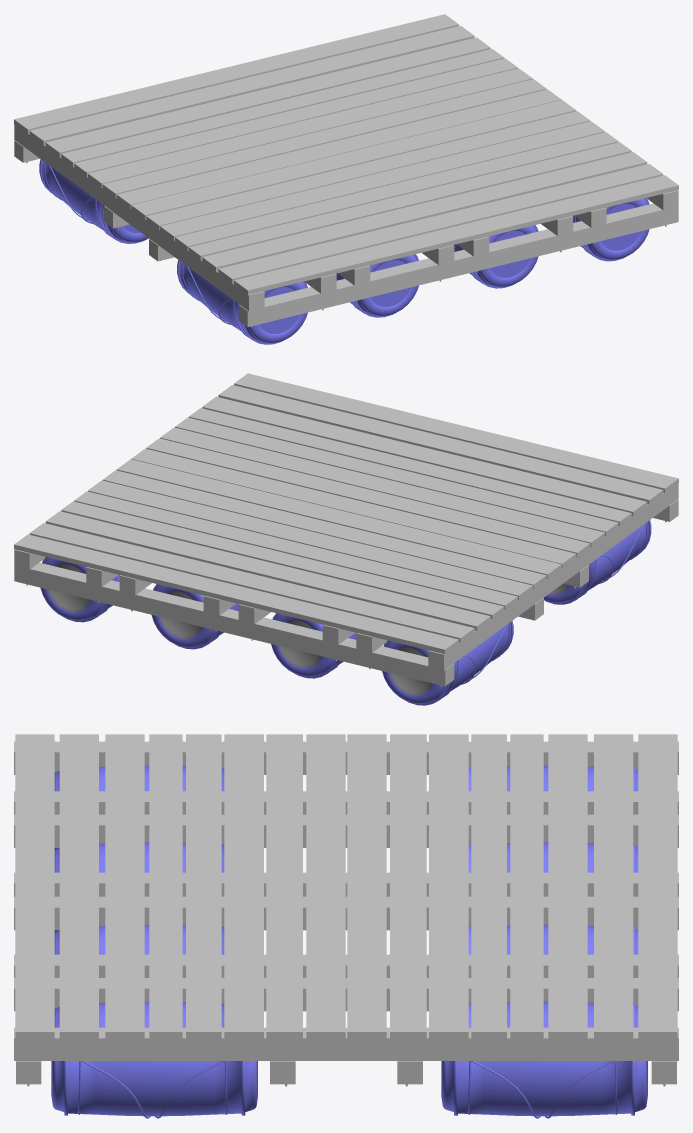
Rendered from floss.obj.
3 views of the same model, one above another, from view 1: azimuth 30°, elevation 25°; view 2: azimuth 150°, elevation 25°; view 3: azimuth 270°, elevation 25° (orthographic). The views are drawn at different scales.
Visible parts, largest first — view 1: Cube_Cube.001; view 2: Cube_Cube.001; view 3: Cube_Cube.001.
Part boxes in pixels (left/top/right/bottom): Cube_Cube.001: left=14, top=14, right=678, bottom=344; Cube_Cube.001: left=14, top=373, right=678, bottom=705; Cube_Cube.001: left=14, top=734, right=678, bottom=1118.
Size of the model in its own units: 7.98 by 1.42 by 7.53.
